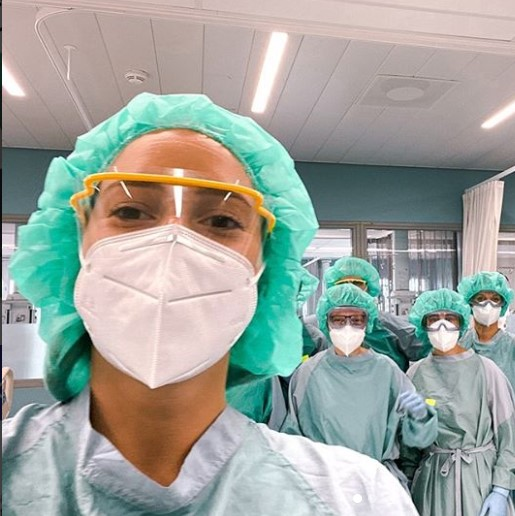face_with_mask: (47, 95, 289, 391), (319, 283, 376, 358), (414, 289, 474, 354), (461, 271, 511, 330)
